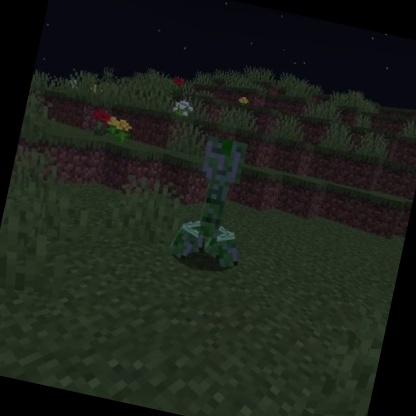creeper: (162, 127, 267, 279)
